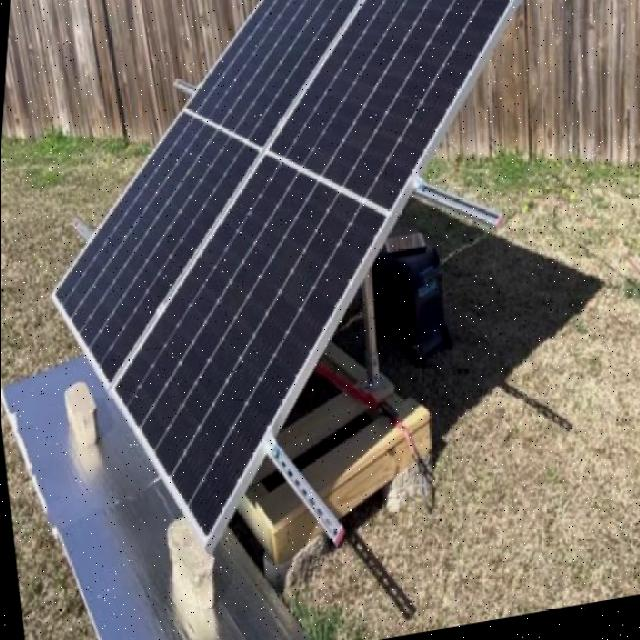Normal Solar Panel: (0, 0, 614, 574)
